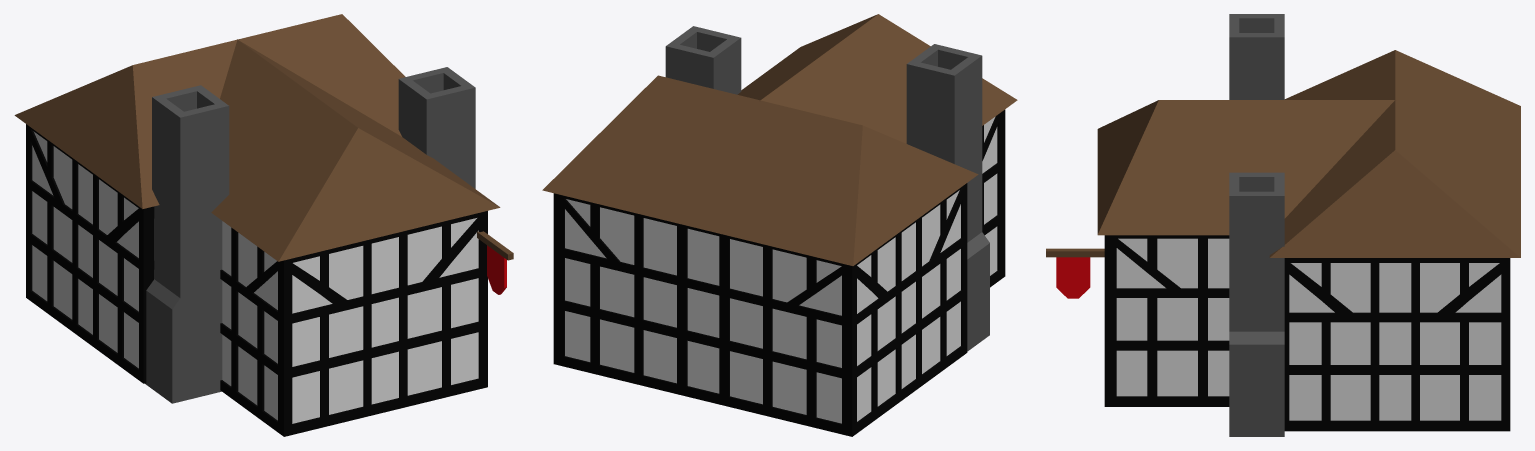
Rendered from 02_com_small_var1.fbx.
3 renders of one model, left to right at view 1: azimuth 30°, elevation 25°; view 2: azimuth 150°, elevation 25°; view 3: azimuth 270°, elevation 25°, orthographic. The views are drawn at different scales.
Parts seen in each view (by area): view 1: Cube.001; view 2: Cube.001; view 3: Cube.001.
Boxes of the visible parts, box(x1,y1,x2,y2) form: Cube.001: box(14, 14, 513, 436); Cube.001: box(542, 14, 1017, 436); Cube.001: box(1046, 14, 1520, 436).
Bounding box in the file's own units: 73.79 × 62.5 × 96.74.
